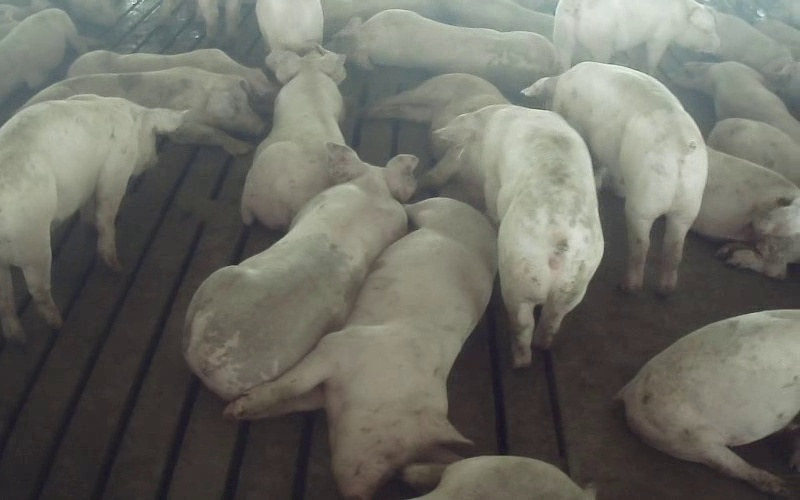pig: (225, 198, 495, 499), (184, 145, 417, 399), (0, 95, 185, 339), (524, 62, 706, 293), (443, 104, 603, 366), (619, 310, 799, 494), (25, 67, 264, 154), (364, 74, 508, 209), (330, 9, 556, 92), (241, 48, 345, 227), (553, 0, 719, 74), (670, 61, 799, 142), (68, 49, 273, 96)
